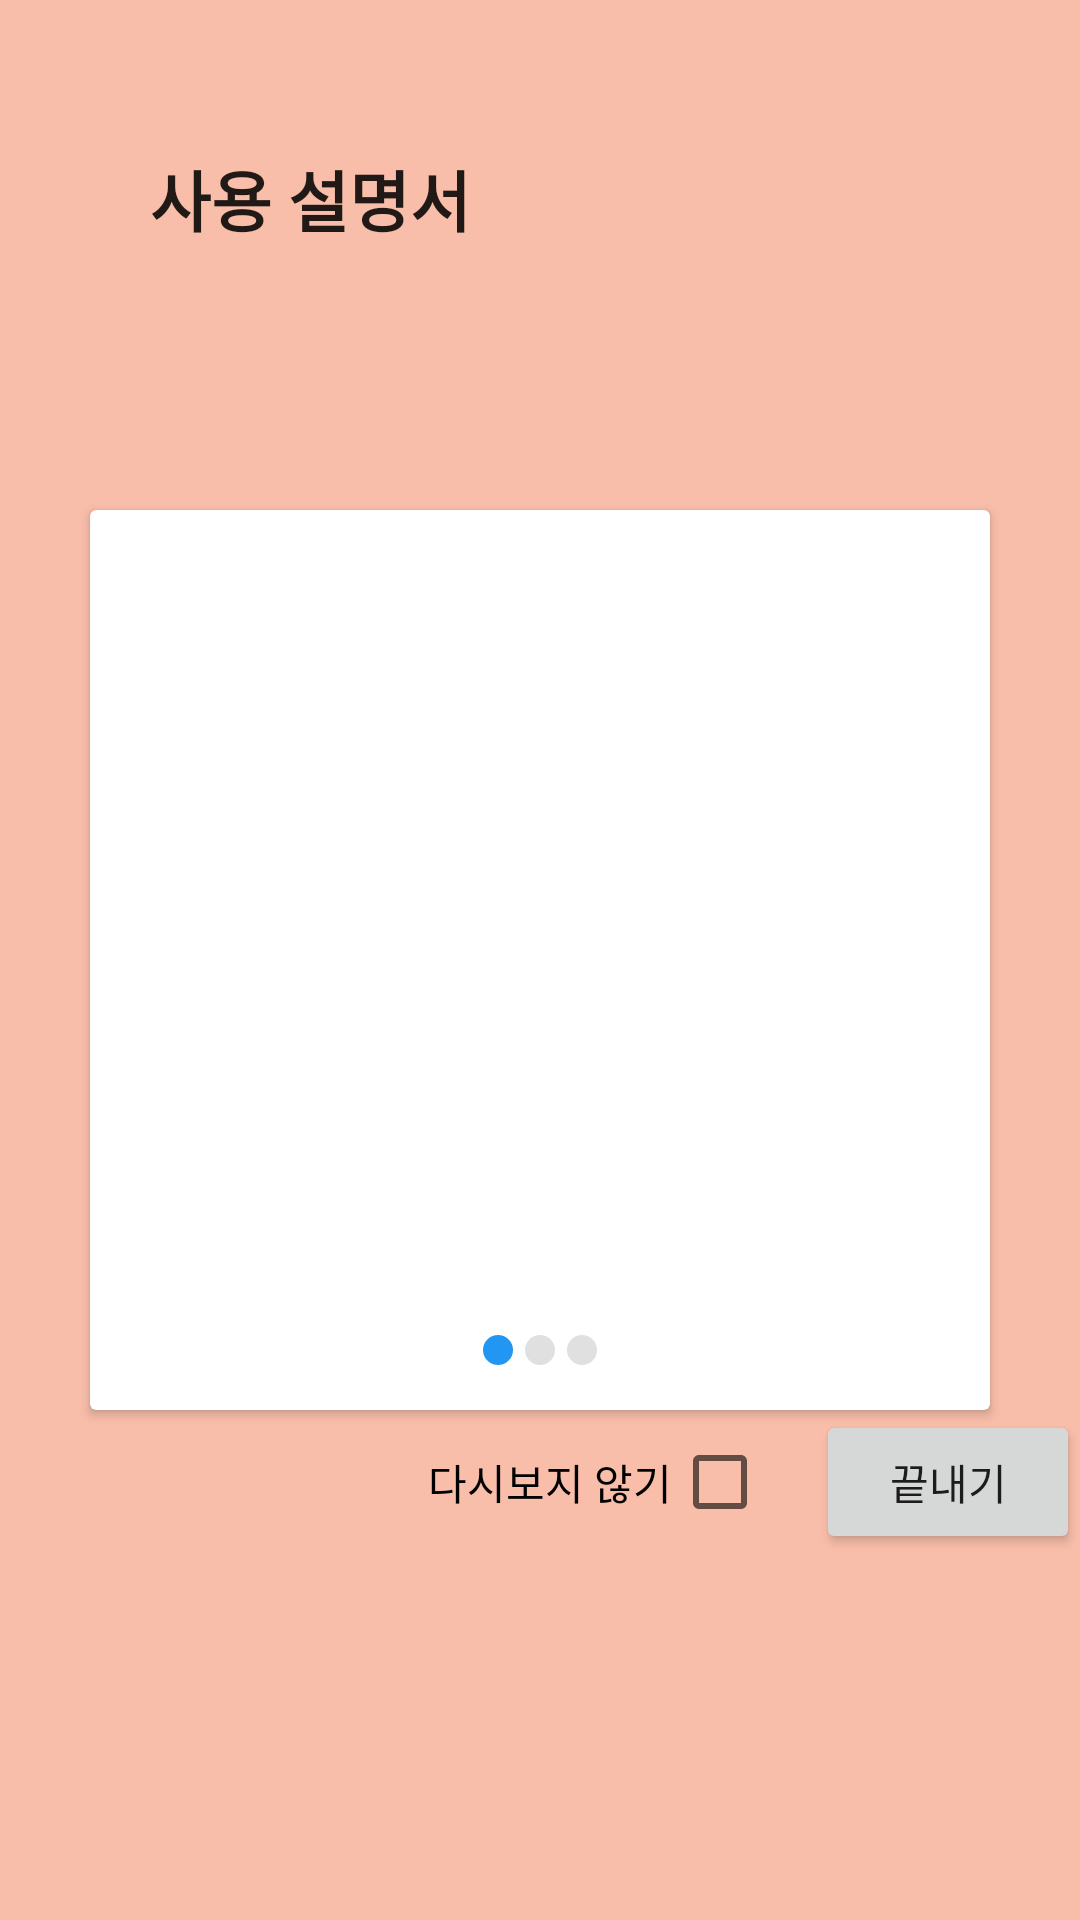

Point at icon controls on the screen. Image size 1080*1920, points as [x,y].
indicator current page: [498,1350]
